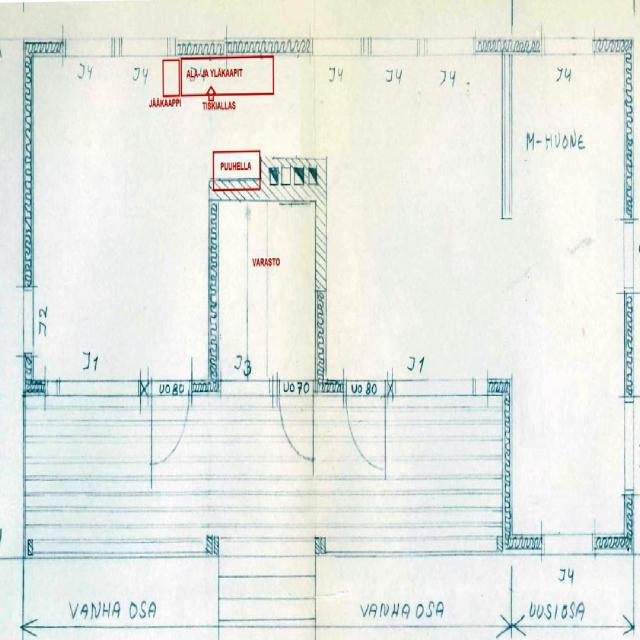door: (151, 380, 190, 467), (346, 380, 385, 467), (279, 380, 313, 459)
